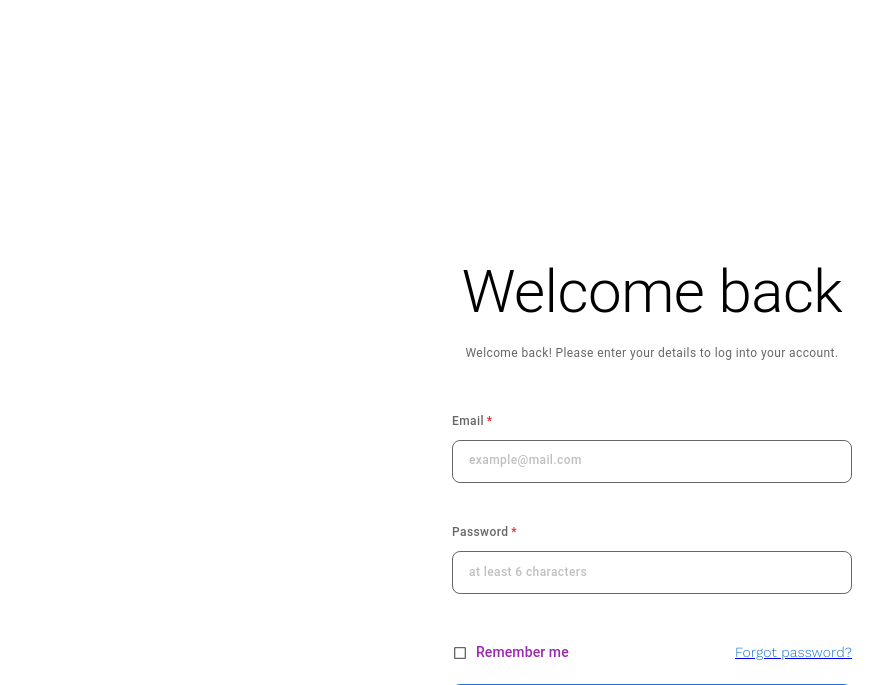
Scenario: SignIn › shows error message on failed login
Type "wrong@example.com" into the field labelled "Email *".
click(652, 461); type("wrong@example.com")  # box [469,453,835,470]
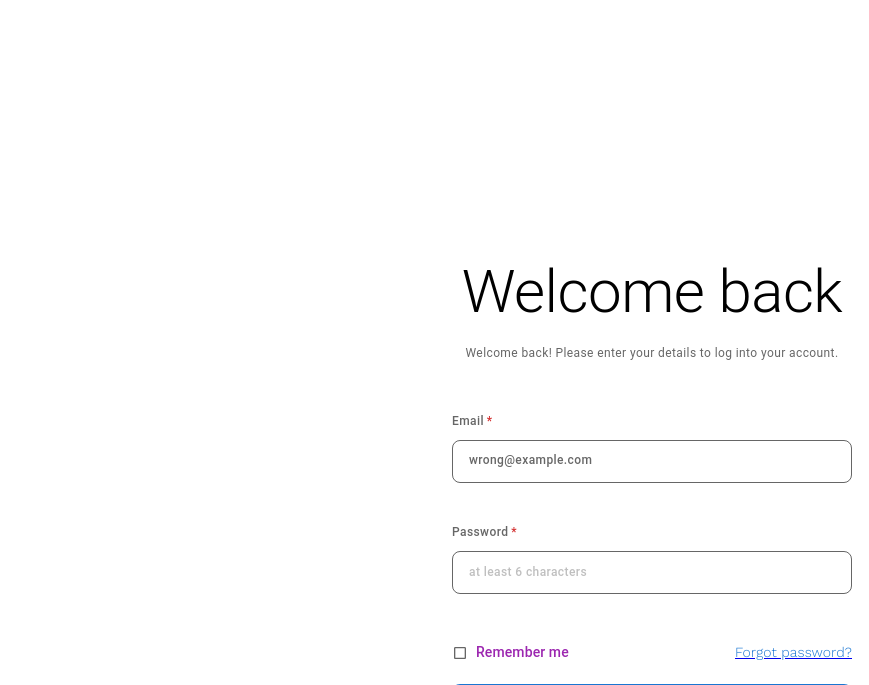
Type "wrongpassword" into the password field labelled "Password *".
click(652, 573); type("wrongpassword")  # box [469,564,835,581]
(page scrolled)
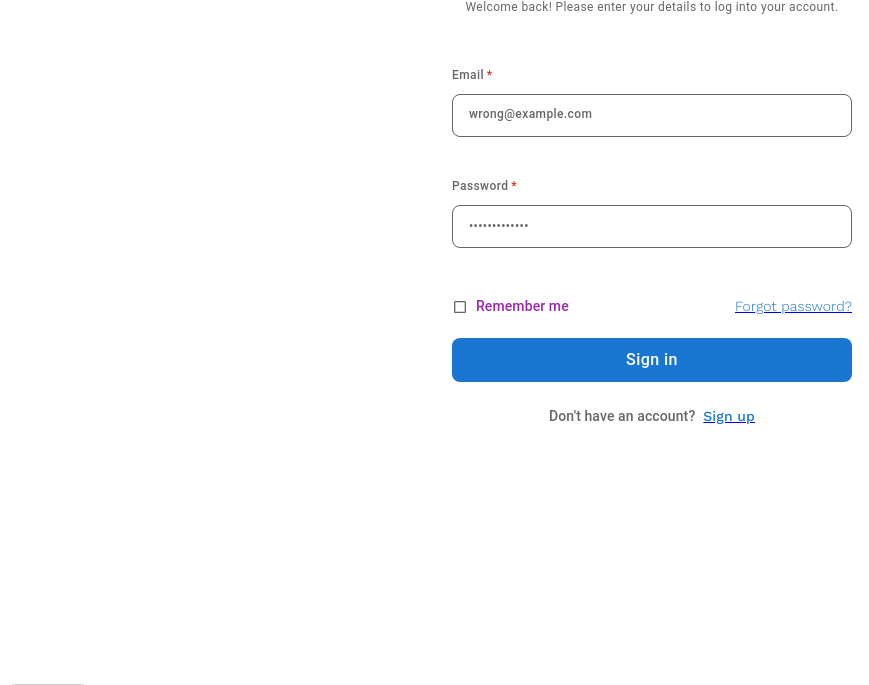
Submit the form from the button "Sign in", box [452,338,852,382]
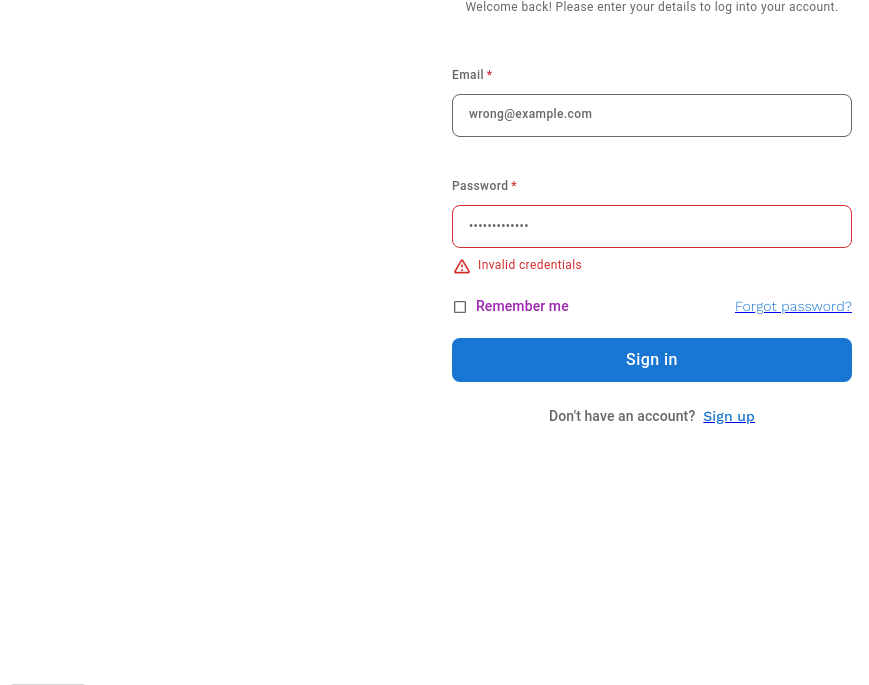
Now the text "Invalid credentials" is shown, box [478,256,582,276]
